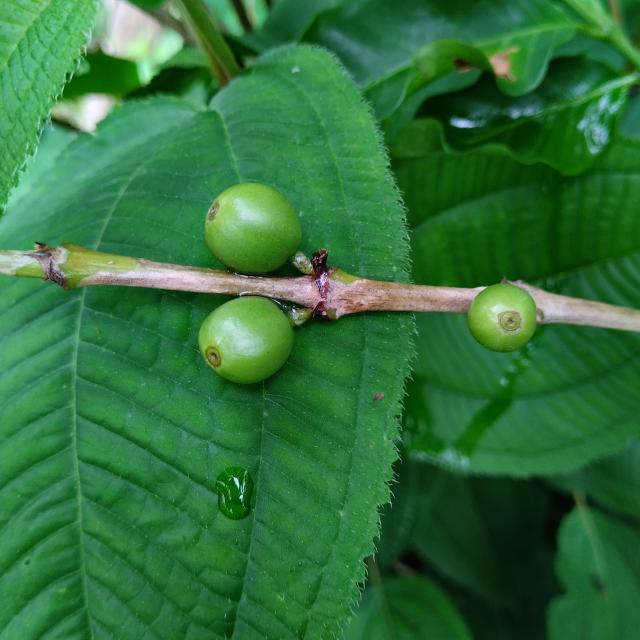green: (204, 182, 302, 275), (198, 296, 294, 384), (468, 284, 537, 352)
